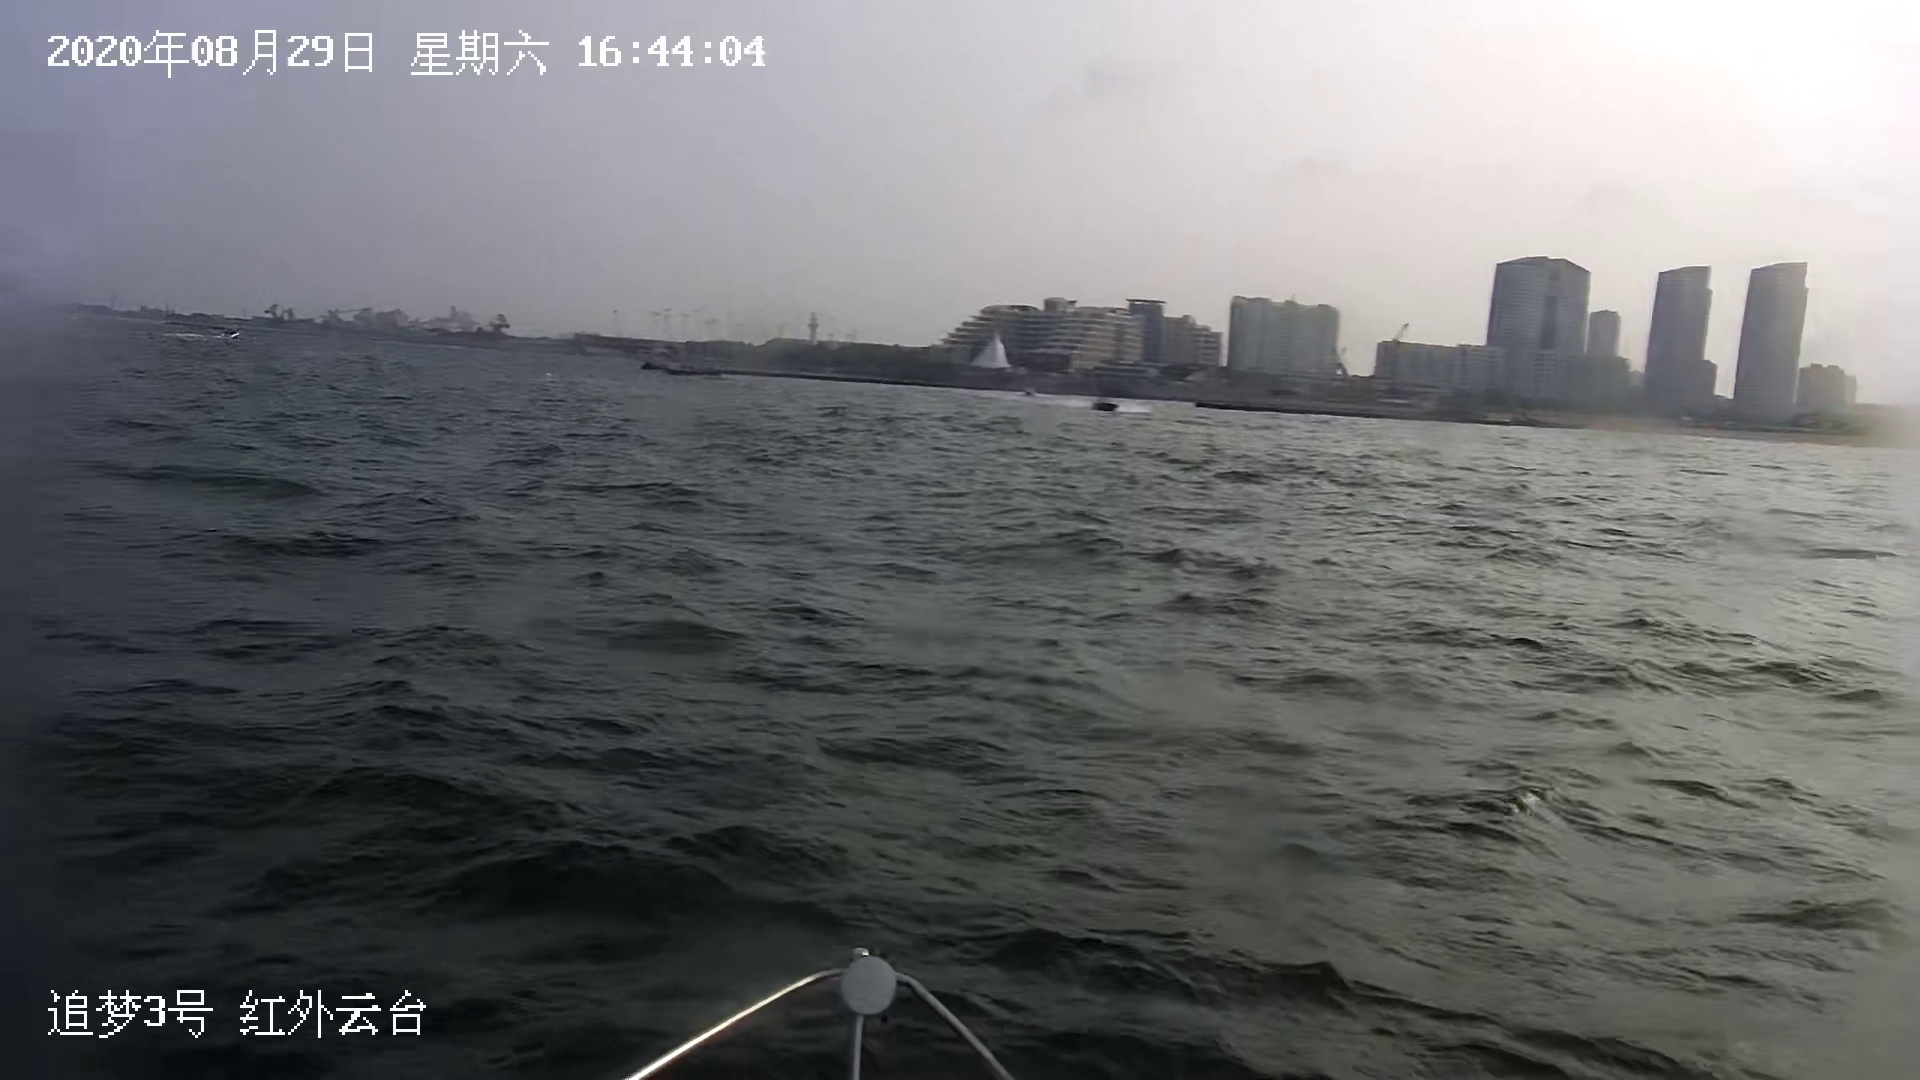coast: (108, 253, 1920, 450)
